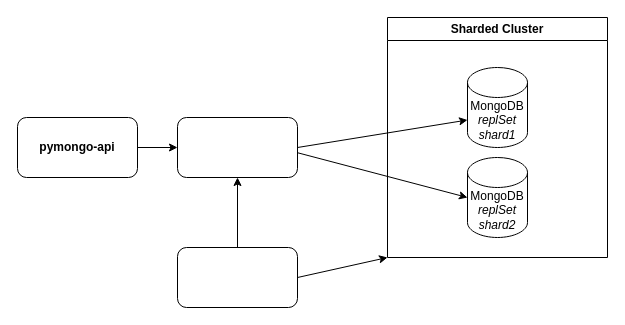
Some shapes in this 625 by 325 pixel diagram are drawn without their labels. Each missing label, with the centre of its shape:
Config Server mongod: pixel 237 277
Router mongos: pixel 237 147
